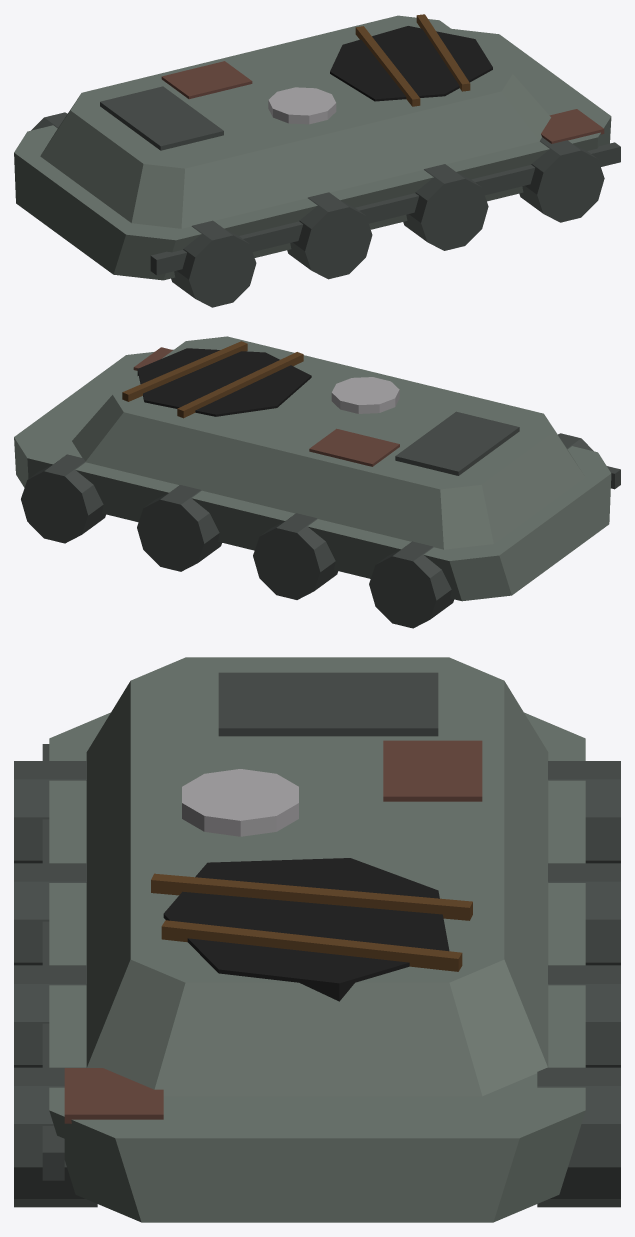
The model's file is ancient_apc.obj.
3 views of the same model, one above another, from view 1: azimuth 30°, elevation 25°; view 2: azimuth 150°, elevation 25°; view 3: azimuth 270°, elevation 25° (orthographic). The views are drawn at different scales.
Parts seen in each view (by area): view 1: ancient_apc_9, ancient_apc_8, ancient_apc_13, ancient_apc_0, ancient_apc_4, ancient_apc_2, ancient_apc_6, ancient_apc_10, ancient_apc_12, ancient_apc_11, ancient_apc_16, ancient_apc_17 (+2 smaller); view 2: ancient_apc_9, ancient_apc_8, ancient_apc_13, ancient_apc_7, ancient_apc_1, ancient_apc_3, ancient_apc_5, ancient_apc_12, ancient_apc_11, ancient_apc_16, ancient_apc_14, ancient_apc_15; view 3: ancient_apc_9, ancient_apc_8, ancient_apc_13, ancient_apc_12, ancient_apc_7, ancient_apc_11, ancient_apc_16, ancient_apc_6, ancient_apc_14, ancient_apc_15, ancient_apc_17, ancient_apc_5 (+6 smaller).
Part boxes in pixels (<box>): ancient_apc_9: <box>40,15,550,228</box>; ancient_apc_8: <box>14,28,611,280</box>; ancient_apc_13: <box>330,26,492,101</box>; ancient_apc_0: <box>171,220,256,307</box>; ancient_apc_4: <box>403,164,488,250</box>; ancient_apc_2: <box>287,192,372,279</box>; ancient_apc_6: <box>519,137,604,222</box>; ancient_apc_10: <box>150,142,620,275</box>; ancient_apc_12: <box>100,86,223,150</box>; ancient_apc_11: <box>268,87,336,124</box>; ancient_apc_16: <box>161,61,252,99</box>; ancient_apc_17: <box>541,109,604,143</box>; ancient_apc_9: <box>72,336,584,549</box>; ancient_apc_8: <box>14,349,611,601</box>; ancient_apc_13: <box>137,348,311,416</box>; ancient_apc_7: <box>21,454,105,543</box>; ancient_apc_1: <box>369,541,454,628</box>; ancient_apc_3: <box>253,513,338,599</box>; ancient_apc_5: <box>137,485,221,571</box>; ancient_apc_12: <box>395,411,519,475</box>; ancient_apc_11: <box>331,377,399,413</box>; ancient_apc_16: <box>309,428,399,466</box>; ancient_apc_14: <box>177,352,303,418</box>; ancient_apc_15: <box>122,341,247,401</box>; ancient_apc_9: <box>86,657,548,1096</box>; ancient_apc_8: <box>49,712,585,1222</box>; ancient_apc_13: <box>163,858,449,1001</box>; ancient_apc_12: <box>218,672,438,736</box>; ancient_apc_7: <box>537,1067,620,1207</box>; ancient_apc_11: <box>182,769,298,836</box>; ancient_apc_16: <box>383,740,482,801</box>; ancient_apc_6: <box>14,1067,97,1207</box>; ancient_apc_14: <box>151,873,472,920</box>; ancient_apc_15: <box>161,920,462,971</box>; ancient_apc_17: <box>64,1068,163,1123</box>; ancient_apc_5: <box>548,965,620,1067</box>.
Size of the model in its own units: 4.7 by 1.11 by 2.76.
